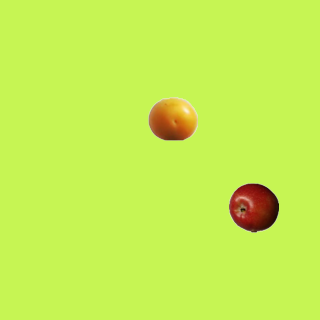Apple Braeburn: (228, 182, 278, 232)
Cherry Wax Yellow: (147, 93, 197, 143)
